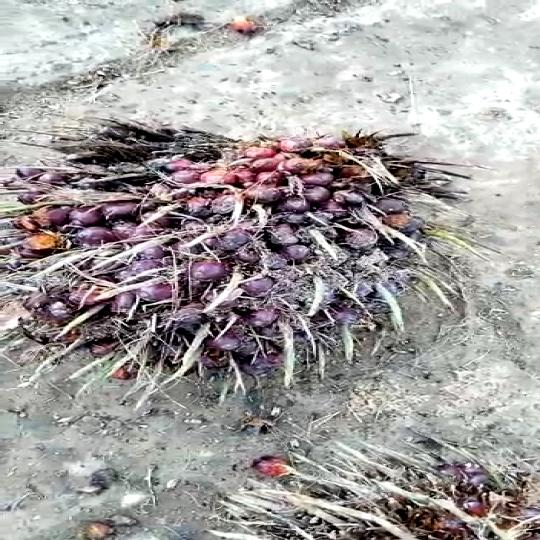masak: (0, 108, 529, 358)
